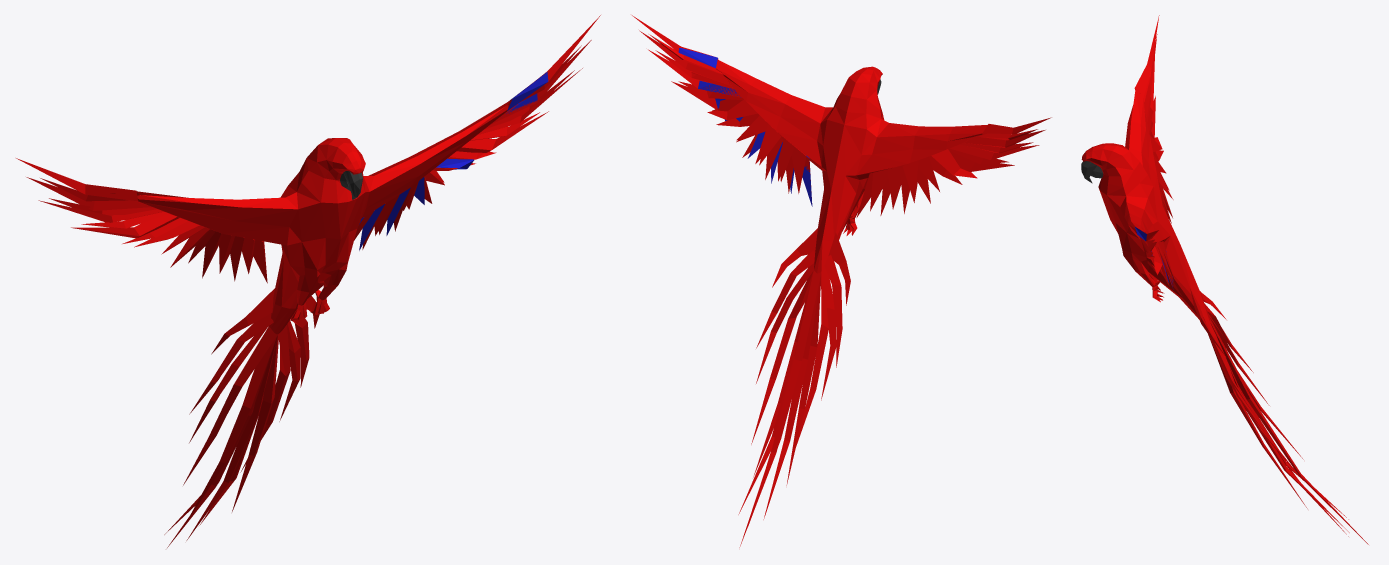
Rendered from vogel.fbx.
3 views of the same model, side by side, from view 1: azimuth 30°, elevation 25°; view 2: azimuth 150°, elevation 25°; view 3: azimuth 270°, elevation 25° (orthographic). The views are drawn at different scales.
Visible parts, largest first — view 1: Plane.002, Cone, Cone.002, Cone.012, Cone.013, Cone.011, Cone.010; view 2: Plane.002, Cone, Cone.002, Cone.001; view 3: Plane.002, Cone.002, Cone, Cone.001, Cone.012.
Boxes of the visible parts, x1,y1,x2,y2 form: Plane.002: [136, 100, 510, 334]; Cone: [16, 15, 600, 283]; Cone.002: [164, 288, 306, 534]; Cone.012: [232, 335, 278, 511]; Cone.013: [186, 365, 270, 540]; Cone.011: [240, 325, 290, 472]; Cone.010: [279, 320, 300, 421]; Plane.002: [716, 60, 987, 273]; Cone: [632, 15, 1051, 217]; Cone.002: [738, 228, 850, 519]; Cone.001: [739, 270, 821, 547]; Plane.002: [1081, 89, 1210, 320]; Cone.002: [1190, 288, 1349, 532]; Cone: [1134, 15, 1173, 289]; Cone.001: [1209, 317, 1368, 544]; Cone.012: [1208, 334, 1306, 507].
Bounding box in the file's own units: 3094 × 2867 × 1777.
